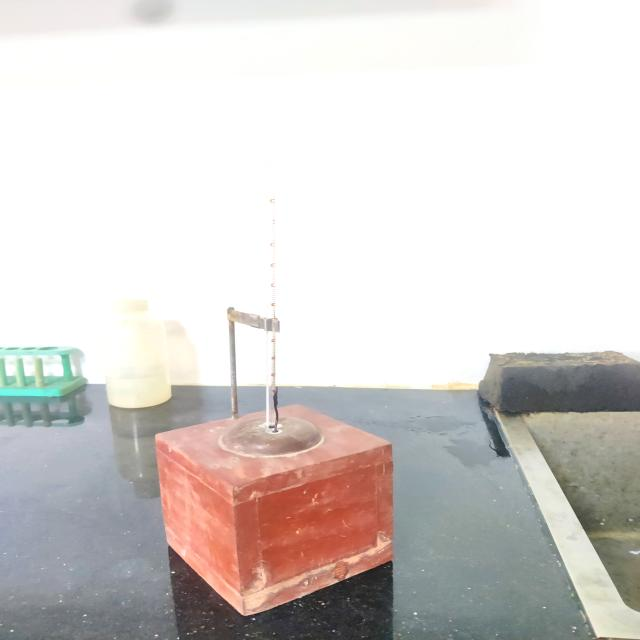Calorimeter: (130, 131, 423, 630)
